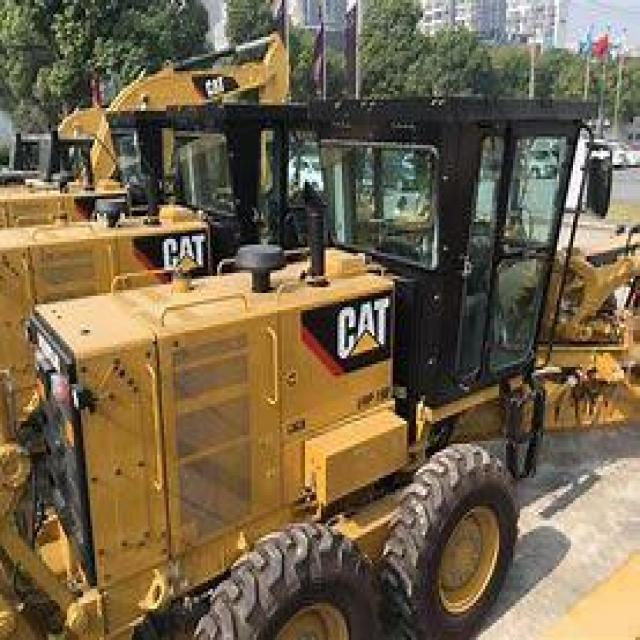Grader: (0, 74, 638, 637)
